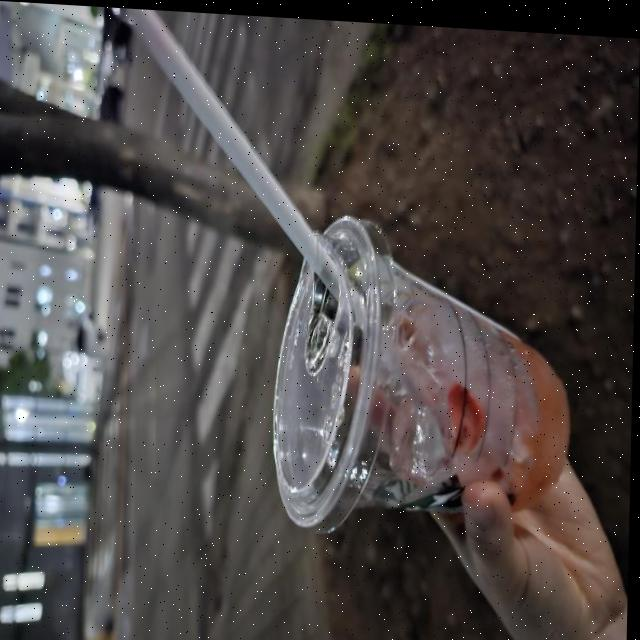cup: (260, 200, 580, 551)
